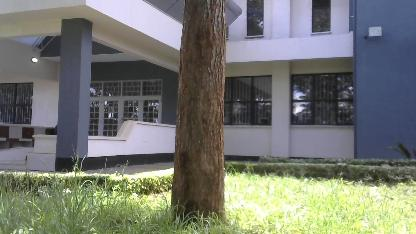tree: (170, 0, 234, 226)
